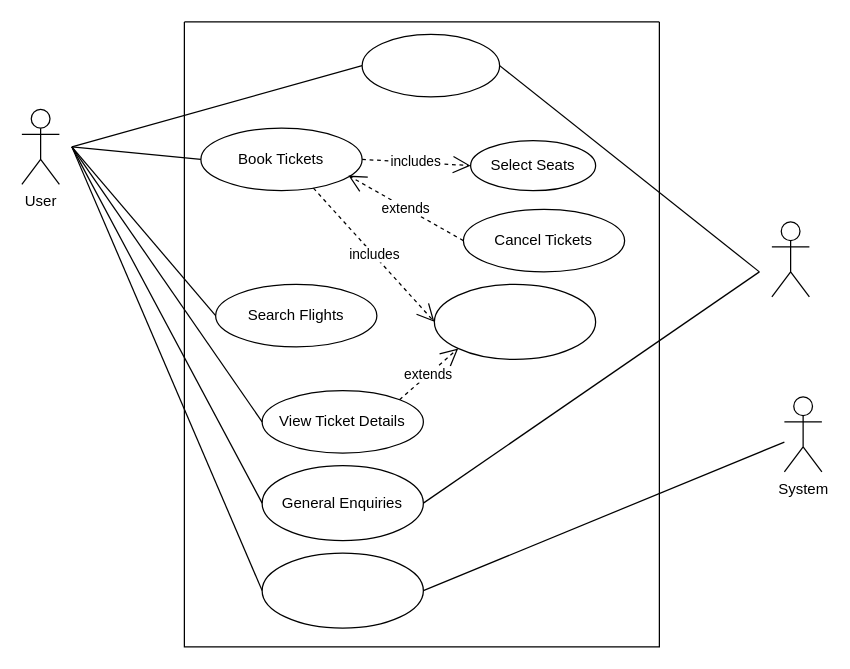
Some shapes in this 850 by 669 pixel diagram are drawn without their labels. The shapes that lost their labels are listed below. From the top down, each one's box as (x1, y1, x2, y2) in pixels, then its label:
(361, 33, 500, 97): Login
(771, 221, 809, 297): Admin
(433, 283, 596, 359): Ticket Payment
(261, 552, 423, 628): Provide flight updates
